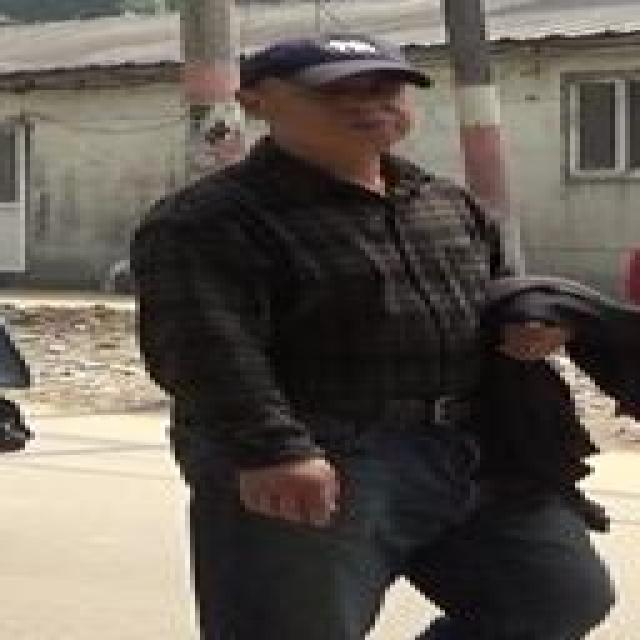adult: (124, 35, 640, 640)
